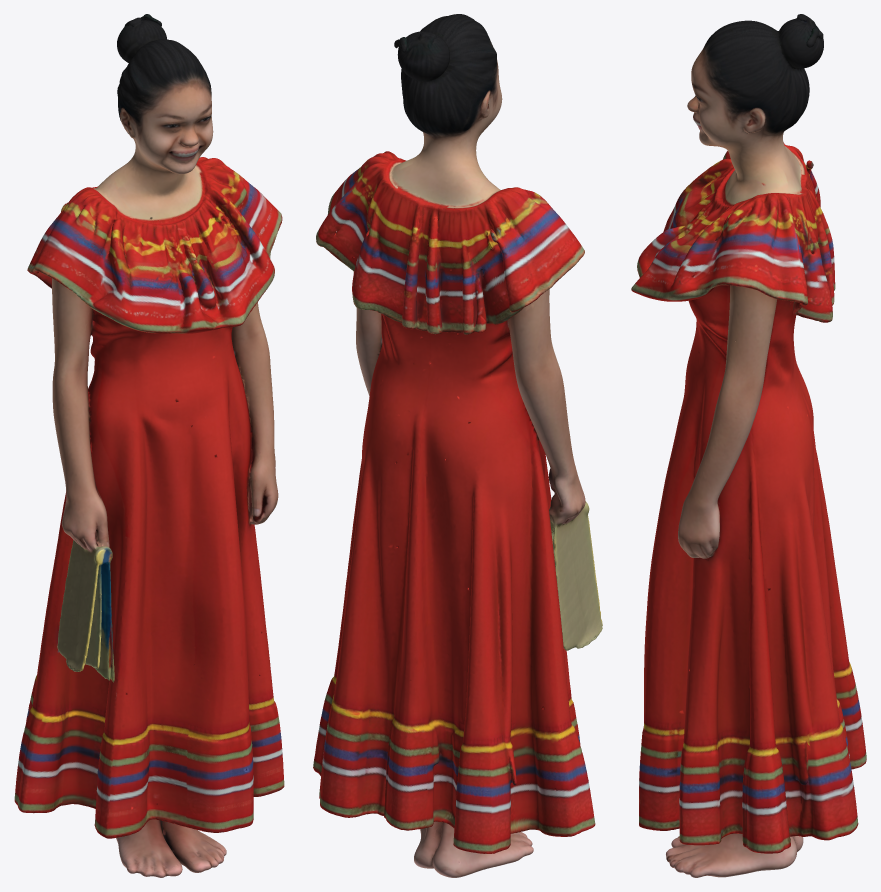
Rendered from chovena.glb.
The picture shows the model from 3 angles, left to right: view 1: azimuth 30°, elevation 25°; view 2: azimuth 150°, elevation 25°; view 3: azimuth 270°, elevation 25°; orthographic projection. The views are drawn at different scales.
Visible parts, largest first — view 1: tripo_node_dee12ccf-c854-4de5-9c49-5c0ea710b0f4; view 2: tripo_node_dee12ccf-c854-4de5-9c49-5c0ea710b0f4; view 3: tripo_node_dee12ccf-c854-4de5-9c49-5c0ea710b0f4.
Boxes of the visible parts, left/top/right/bottom form: tripo_node_dee12ccf-c854-4de5-9c49-5c0ea710b0f4: left=14, top=14, right=284, bottom=877; tripo_node_dee12ccf-c854-4de5-9c49-5c0ea710b0f4: left=313, top=14, right=602, bottom=877; tripo_node_dee12ccf-c854-4de5-9c49-5c0ea710b0f4: left=631, top=14, right=866, bottom=877.
Size of the model in its own units: 0.335 by 1 by 0.2524.
Materials: 1 (1 with a texture image).
